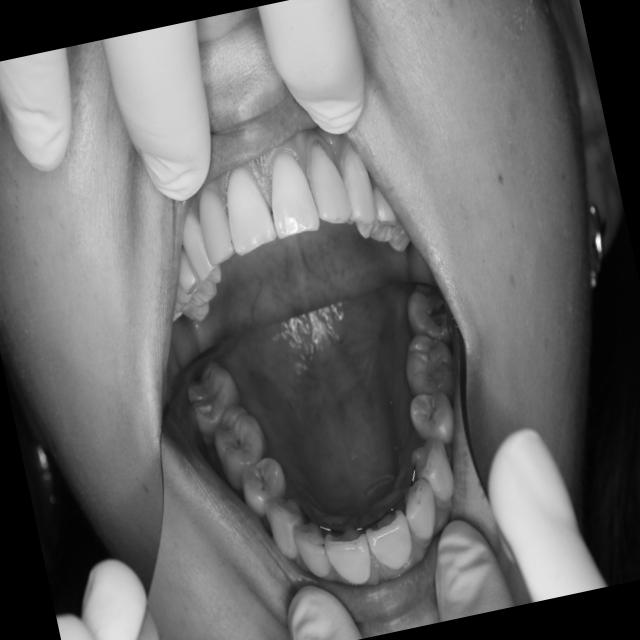tooth: (197, 392, 281, 500), (178, 350, 253, 452), (393, 321, 466, 410), (396, 271, 461, 353), (231, 444, 296, 522), (403, 426, 463, 510), (257, 483, 316, 568), (401, 376, 465, 454), (282, 503, 340, 588), (317, 516, 380, 594), (360, 501, 419, 576), (393, 472, 447, 548)
